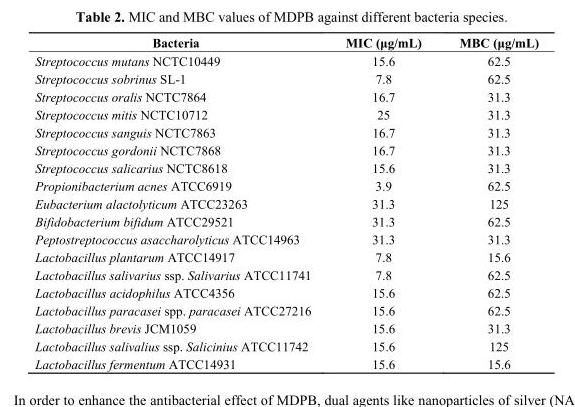table: (34, 34, 538, 370)
table column: (34, 34, 327, 370), (327, 34, 439, 370), (439, 34, 538, 370)
table column header: (34, 34, 538, 51)
table row: (34, 51, 538, 69), (34, 69, 538, 87), (34, 87, 538, 105), (34, 105, 538, 123), (34, 140, 538, 158), (34, 158, 538, 176), (34, 176, 538, 194), (34, 194, 538, 212), (34, 229, 538, 247), (34, 247, 538, 265), (34, 265, 538, 283), (34, 283, 538, 301), (34, 301, 538, 319), (34, 336, 538, 354), (34, 34, 538, 51), (34, 123, 538, 140), (34, 212, 538, 229), (34, 319, 538, 336), (34, 354, 538, 370)
